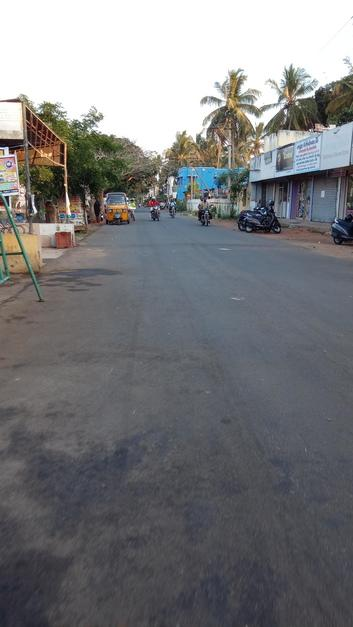speed-bump: (79, 240, 311, 249)
